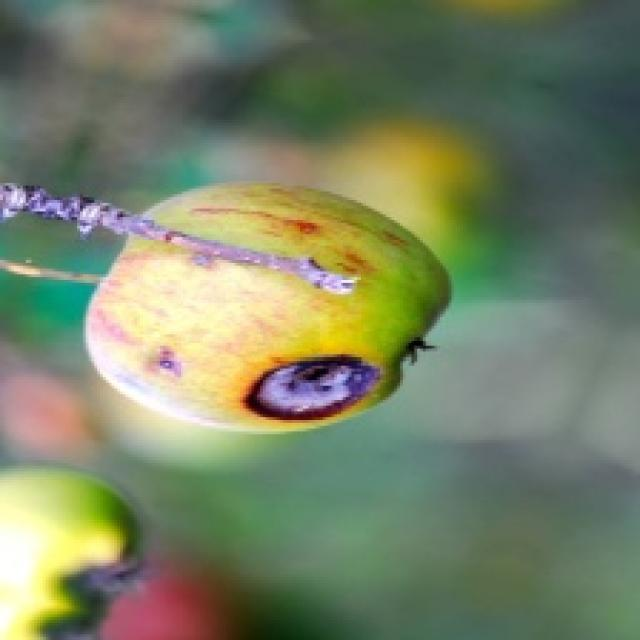rotten_apple: (90, 189, 450, 428)
